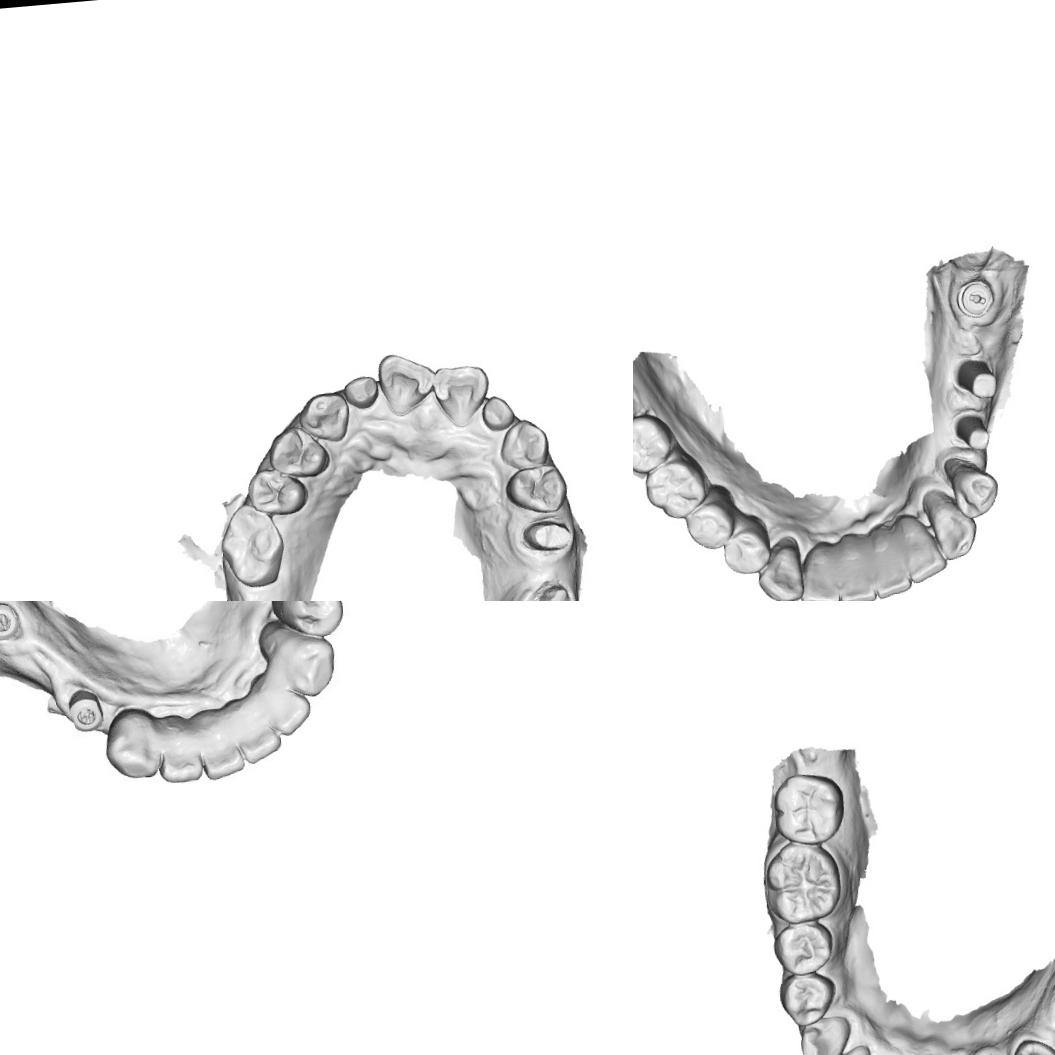abutment: (950, 353, 1002, 403), (949, 408, 992, 454)
canine: (269, 626, 340, 702), (100, 704, 163, 786), (920, 486, 980, 562), (753, 532, 805, 601), (296, 390, 352, 445), (496, 416, 552, 470), (795, 1011, 857, 1055)
crown: (520, 516, 574, 555), (513, 574, 576, 601)
implant: (62, 684, 106, 735), (0, 603, 24, 643)
implant_minus: (952, 275, 998, 320)
incisor: (372, 348, 438, 418), (432, 362, 493, 430), (895, 510, 948, 584), (233, 701, 287, 765), (257, 679, 314, 738), (831, 530, 878, 601), (867, 525, 912, 599), (196, 724, 250, 781), (154, 724, 204, 784), (796, 539, 842, 601), (479, 392, 516, 432), (341, 374, 379, 411), (821, 1040, 875, 1055)
molar: (760, 838, 849, 928), (766, 767, 848, 848), (216, 500, 288, 590), (641, 452, 709, 524), (633, 410, 678, 476)
premolar: (681, 481, 738, 551), (769, 919, 837, 977), (265, 421, 330, 480), (943, 453, 1000, 520), (776, 970, 838, 1029), (501, 463, 570, 516), (718, 512, 774, 576), (244, 464, 308, 518), (272, 601, 348, 643), (1008, 1034, 1055, 1055)
